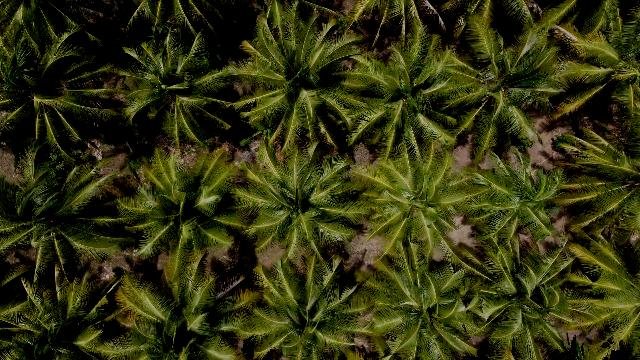trees: (224, 7, 381, 159), (438, 227, 603, 359), (437, 19, 583, 164), (2, 5, 130, 160), (225, 139, 363, 264), (111, 247, 263, 360), (110, 22, 245, 149), (354, 143, 483, 275), (237, 248, 386, 360), (3, 149, 137, 272), (113, 146, 252, 264), (355, 237, 486, 360), (448, 152, 573, 258), (5, 264, 130, 360), (341, 2, 431, 49)
